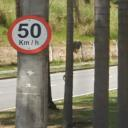speed_limit_50: (6, 15, 52, 53)
